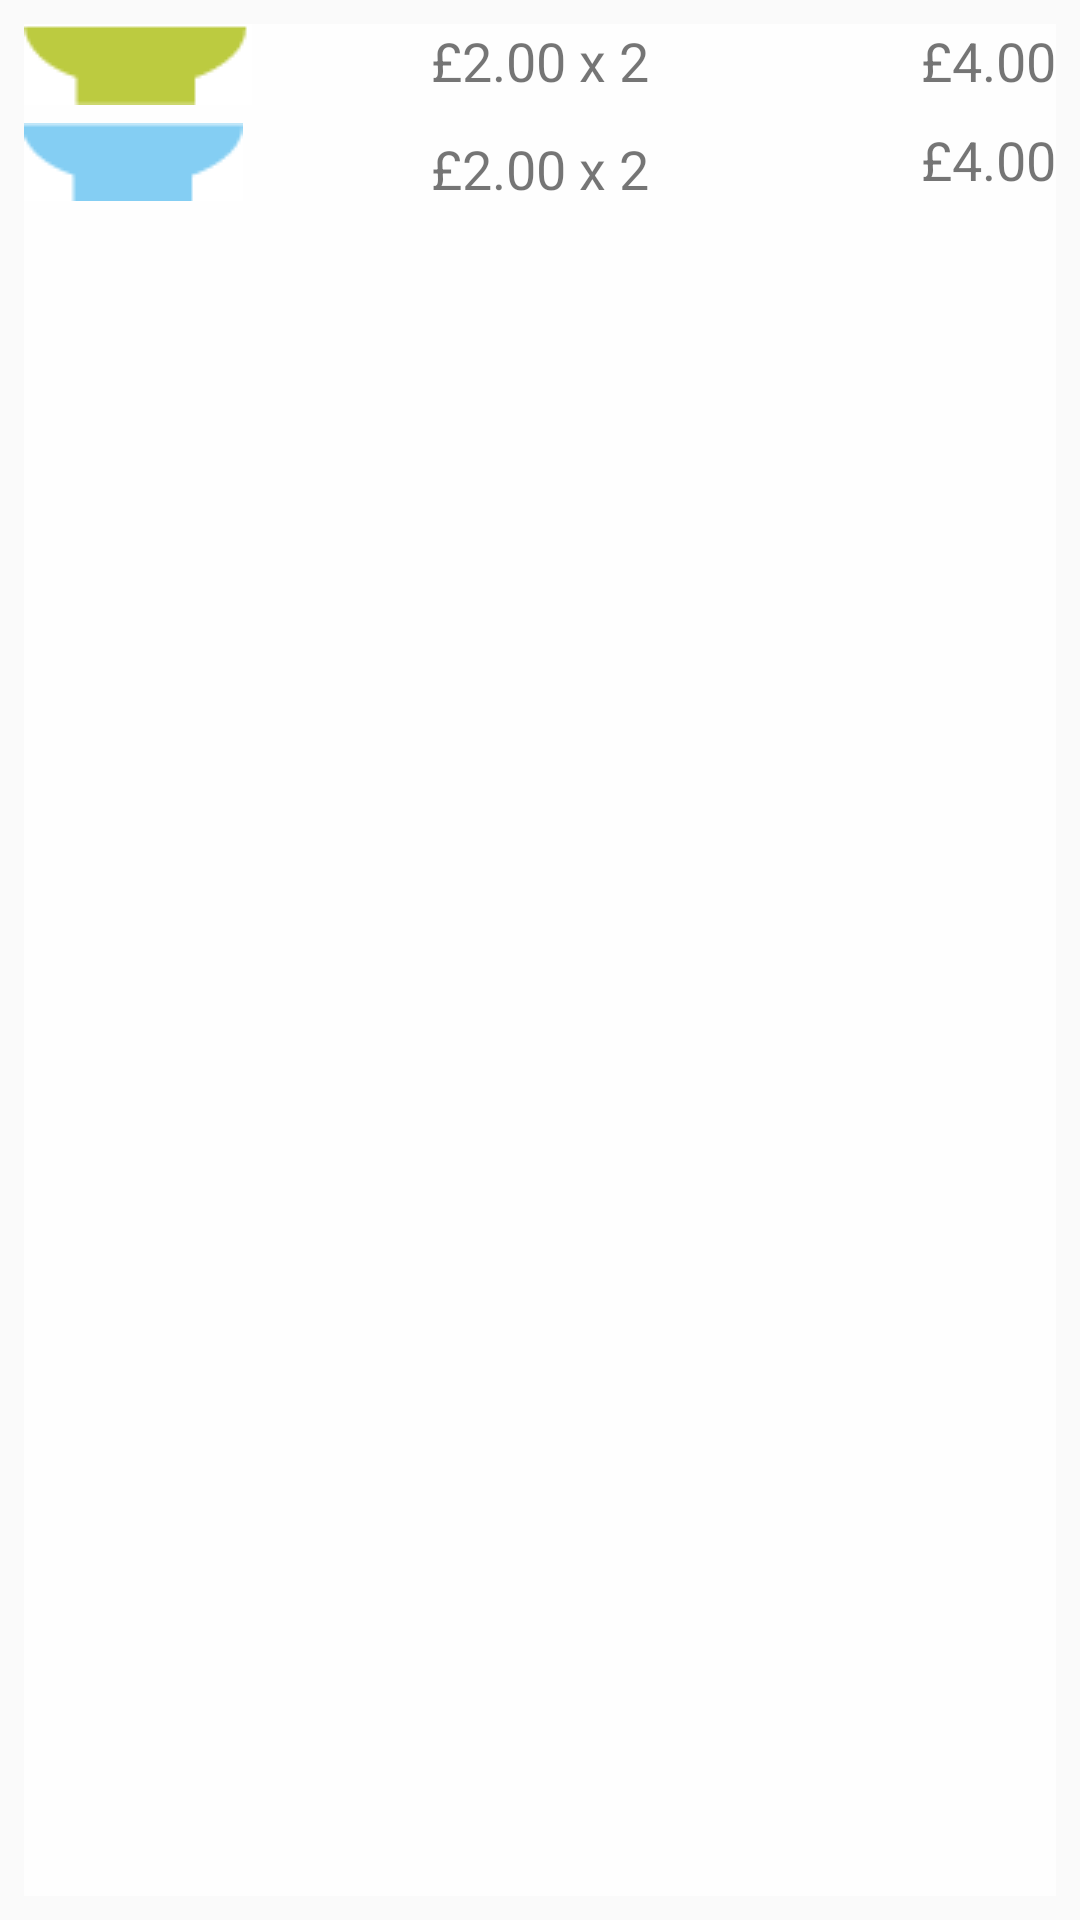

Named icons in this screenshot (1080px x 1920px) and their centers, (x=x, y=y):
yo sushi dish: (x=135, y=65), (x=133, y=162)
